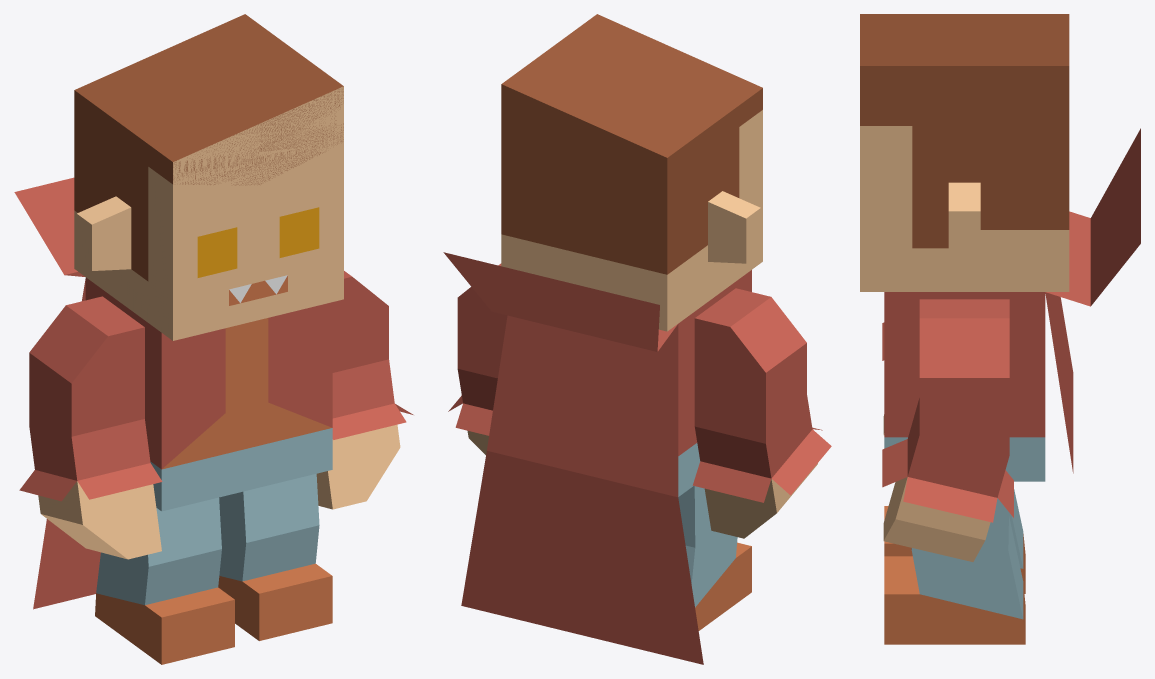
File: vampire.obj
The picture shows the model from 3 angles, left to right: view 1: azimuth 30°, elevation 25°; view 2: azimuth 150°, elevation 25°; view 3: azimuth 270°, elevation 25°; orthographic projection. The views are drawn at different scales.
Parts seen in each view (by area): view 1: head, body, armRight, legRight, legLeft, armLeft, cape; view 2: cape, head, armRight, legRight, armLeft, body; view 3: head, armLeft, legLeft, body, cape, legRight.
Part boxes in pixels (x1,y1,x2,y2): head: (74, 14, 343, 340); body: (85, 277, 332, 511); armRight: (19, 296, 162, 559); legRight: (95, 497, 234, 664); legLeft: (218, 473, 332, 640); armLeft: (316, 271, 413, 509); cape: (14, 177, 100, 609); cape: (443, 252, 703, 664); head: (501, 14, 762, 331); armRight: (692, 288, 831, 538); legRight: (678, 486, 751, 630); armLeft: (448, 263, 507, 454); body: (678, 270, 751, 496); head: (860, 14, 1069, 291); armLeft: (882, 299, 1013, 561); legLeft: (884, 498, 1025, 644); body: (884, 292, 1045, 481); cape: (1045, 128, 1140, 473); legRight: (884, 489, 1025, 593).
Size of the model in its own units: 0.5371 by 0.7932 by 0.3489.
